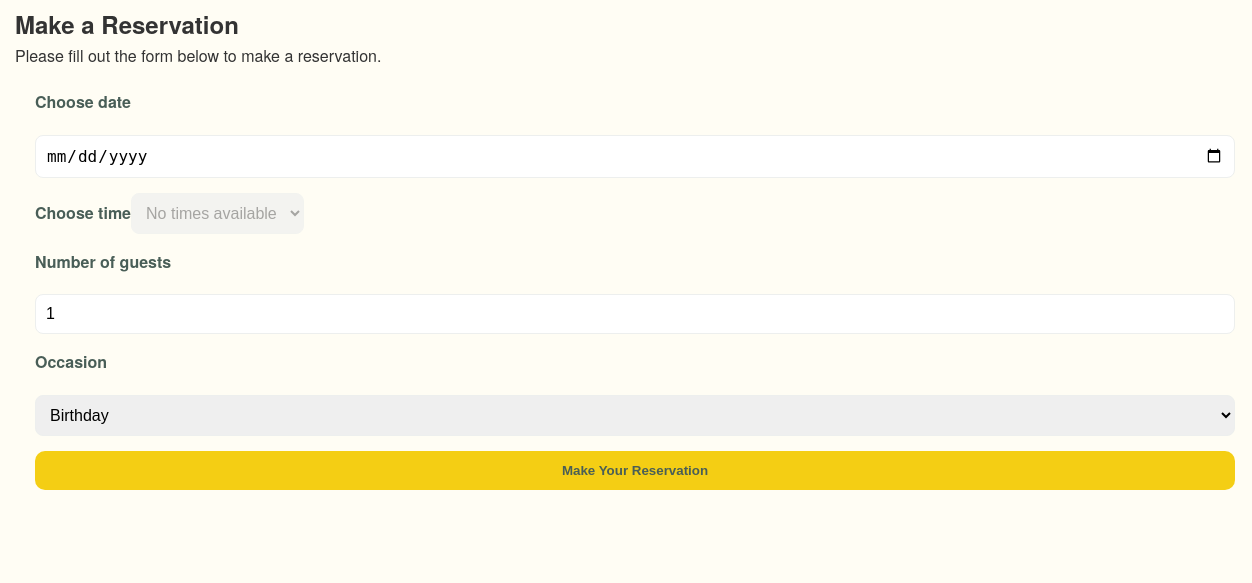
Scenario: ReservationForm › submits valid form and navigates to confirmation
In the date field labelled "Choose date": (635,156) [35,135,1235,178], type "2025-06-25"
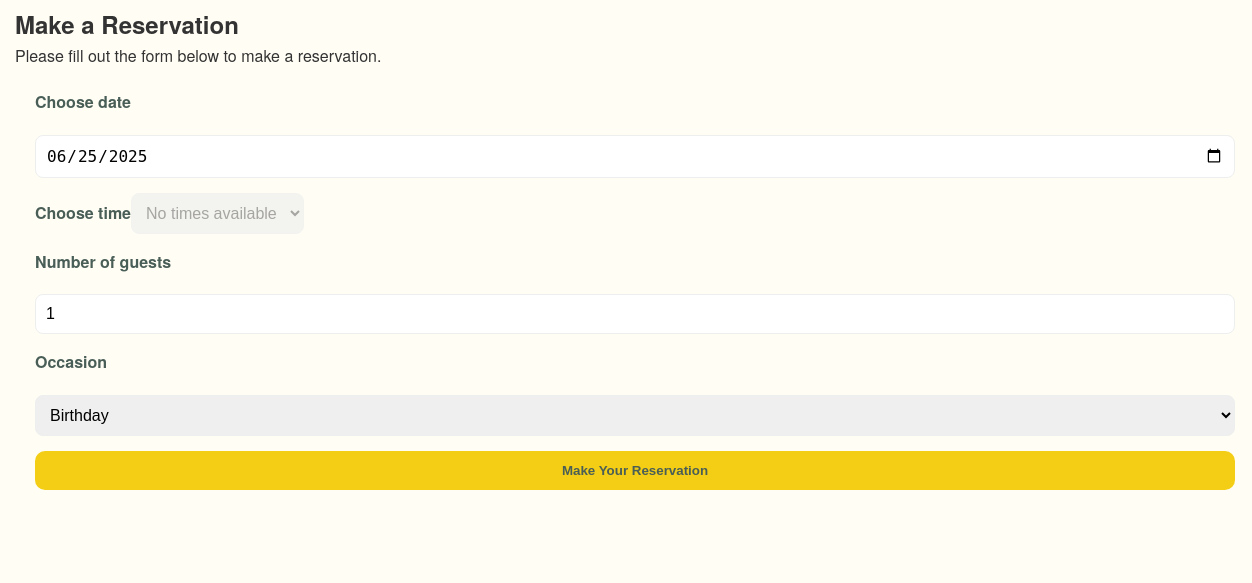
Select "18:00" in the dropdown labelled "Choose time": (218,213) [131,193,304,234]
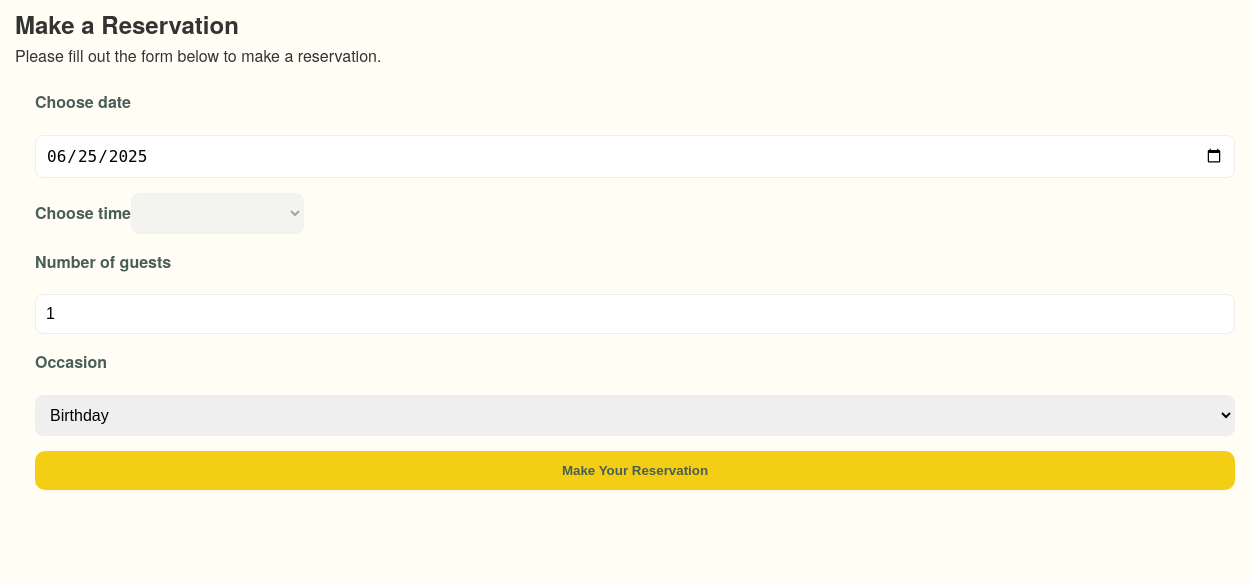
Replace the text in the number field labelled "Number of guests" with "2": (635,314) [35,294,1235,334]
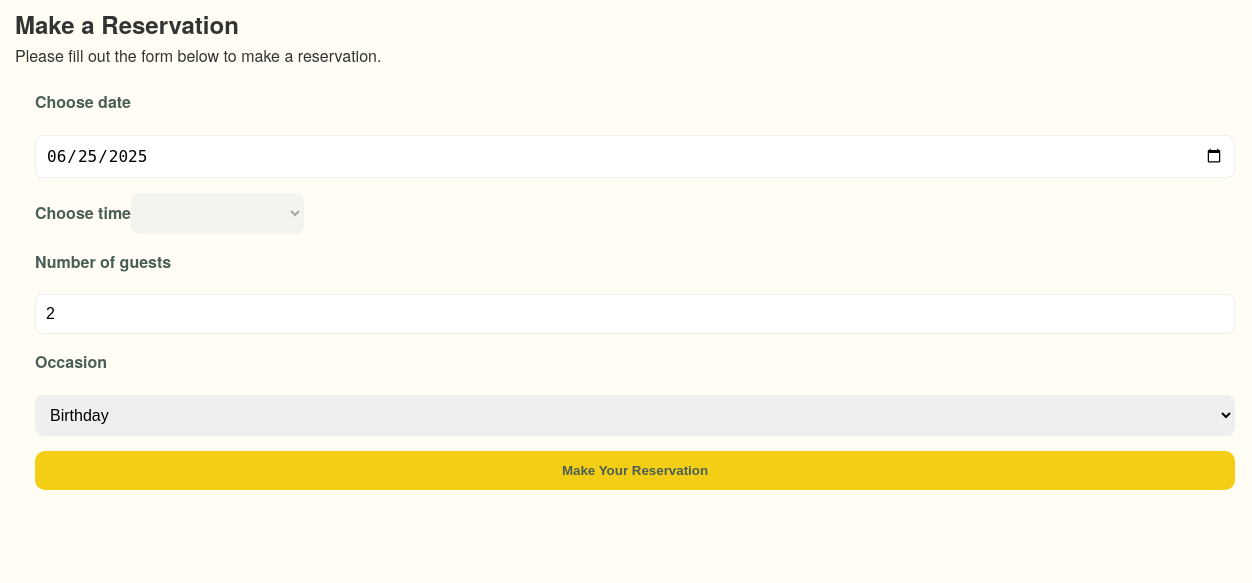
Select "Birthday" in the dropdown labelled "Occasion": (635,415) [35,395,1235,436]
Click the button showing "make your reservation": (635,470) [35,451,1235,490]
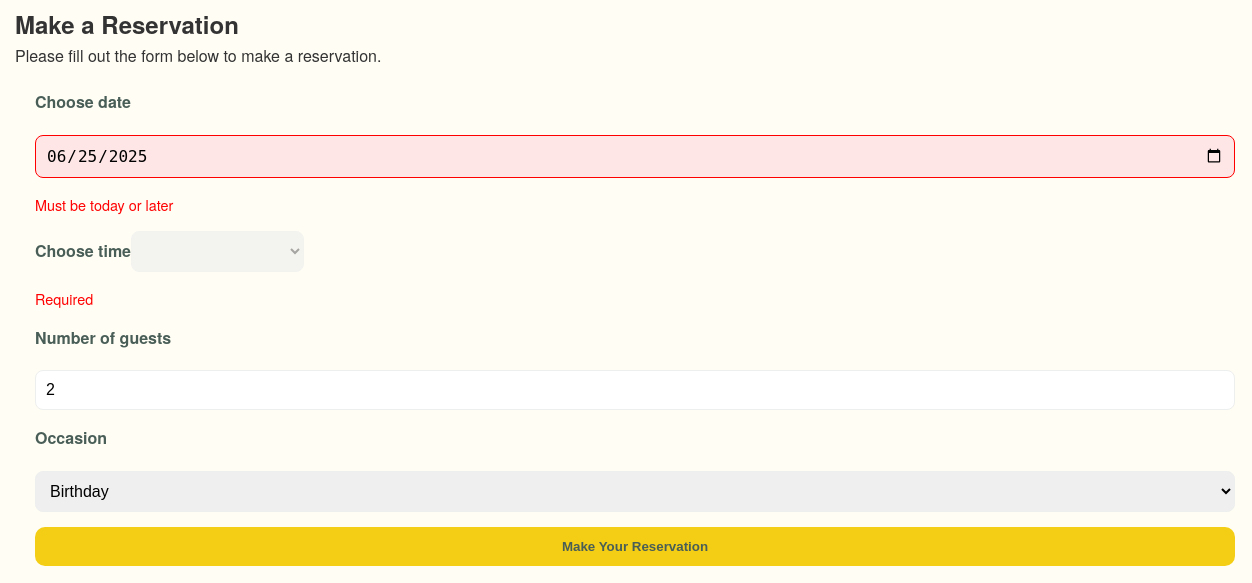
Expected: the text "Must be today or later" is shown, [35,194,173,215]
